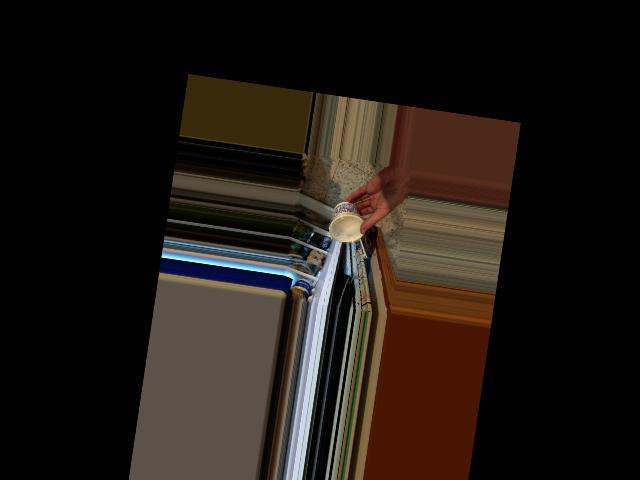cotage: (330, 199, 367, 242)
